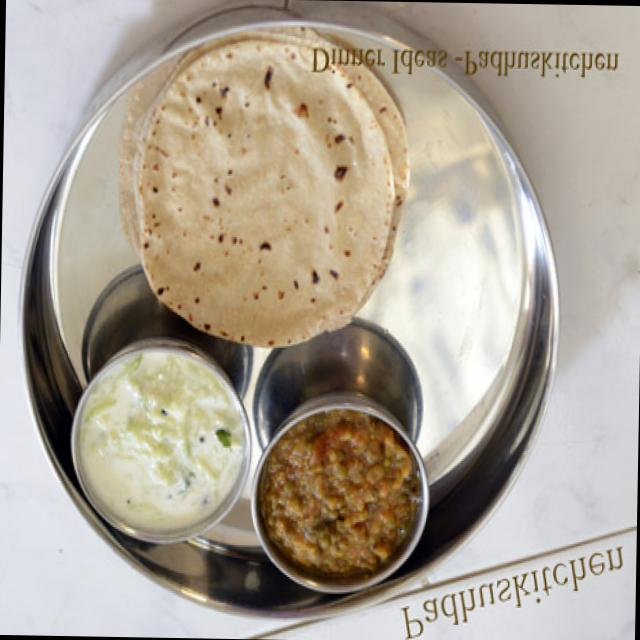roti: (134, 29, 403, 345)
